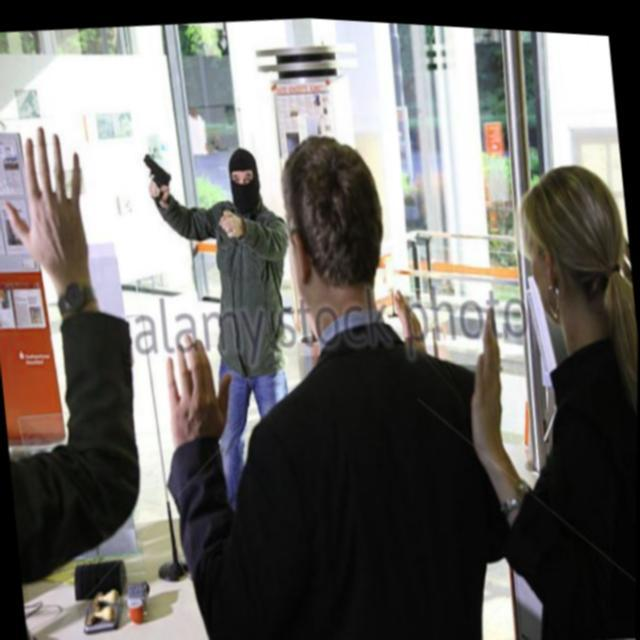weapon: (138, 144, 177, 207)
